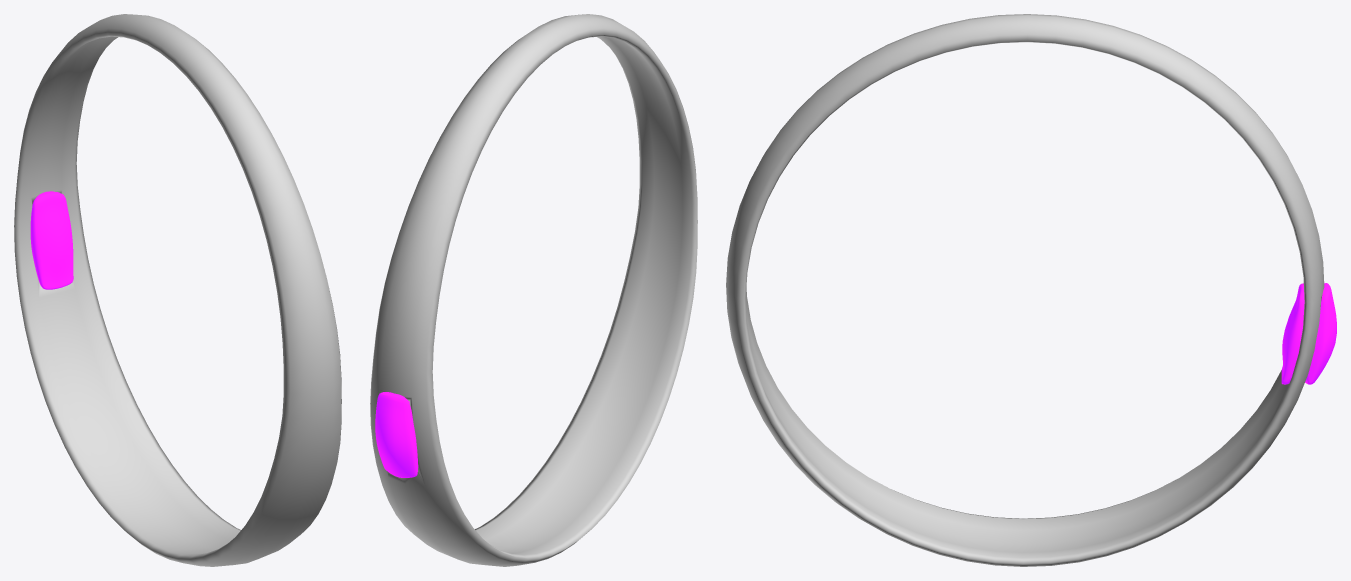
File: ring33.gltf
3 views of the same model, side by side, from view 1: azimuth 30°, elevation 25°; view 2: azimuth 150°, elevation 25°; view 3: azimuth 270°, elevation 25° (orthographic). The views are drawn at different scales.
Parts seen in each view (by area): view 1: ring_cylinder, ring_cut_quad; view 2: ring_cylinder, ring_cut_quad; view 3: ring_cylinder, ring_cut_quad.
Boxes of the visible parts, left/top/right/bottom form: ring_cylinder: left=14, top=14, right=341, bottom=566; ring_cut_quad: left=30, top=191, right=73, bottom=289; ring_cylinder: left=370, top=14, right=697, bottom=566; ring_cut_quad: left=375, top=392, right=418, bottom=477; ring_cylinder: left=726, top=14, right=1324, bottom=566; ring_cut_quad: left=1281, top=283, right=1336, bottom=384.
Bounding box in the file's own units: 9.78 × 55.01 × 56.24.
